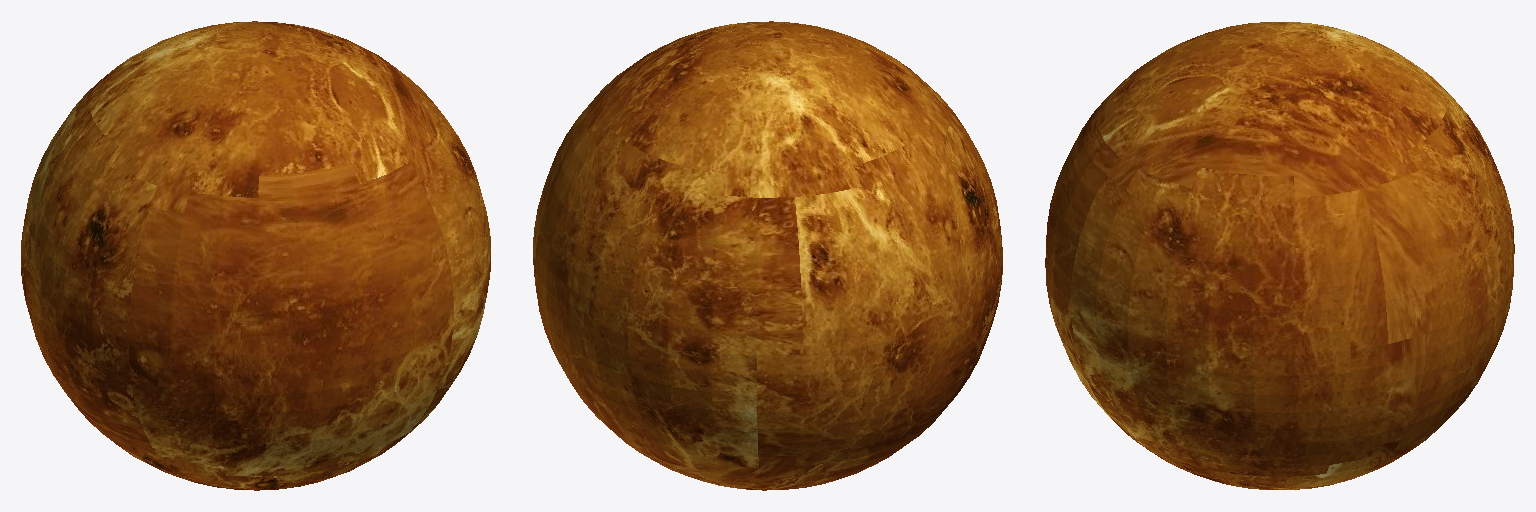
3 renders of one model, left to right at view 1: azimuth 30°, elevation 25°; view 2: azimuth 150°, elevation 25°; view 3: azimuth 270°, elevation 25°, orthographic.
Parts seen in each view (by area): view 1: Venus.001_Sphere.007; view 2: Venus.001_Sphere.007; view 3: Venus.001_Sphere.007.
Boxes of the visible parts, x1,y1,x2,y2 form: Venus.001_Sphere.007: [21, 21, 490, 490]; Venus.001_Sphere.007: [533, 21, 1002, 490]; Venus.001_Sphere.007: [1045, 22, 1514, 489].
Size of the model in its own units: 6.05 by 6.05 by 6.05.
1 materials, 1 textured.